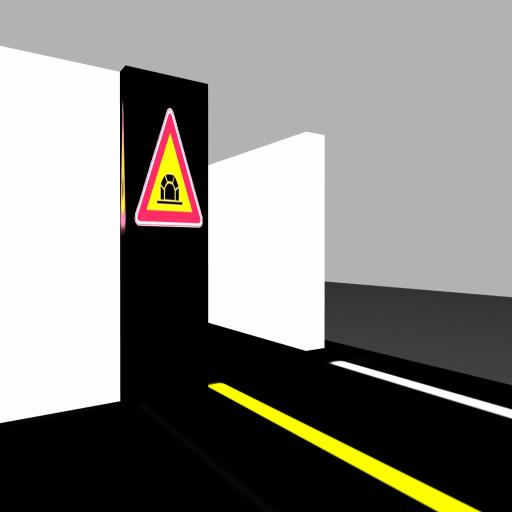Tunnel: (135, 109, 202, 227)
